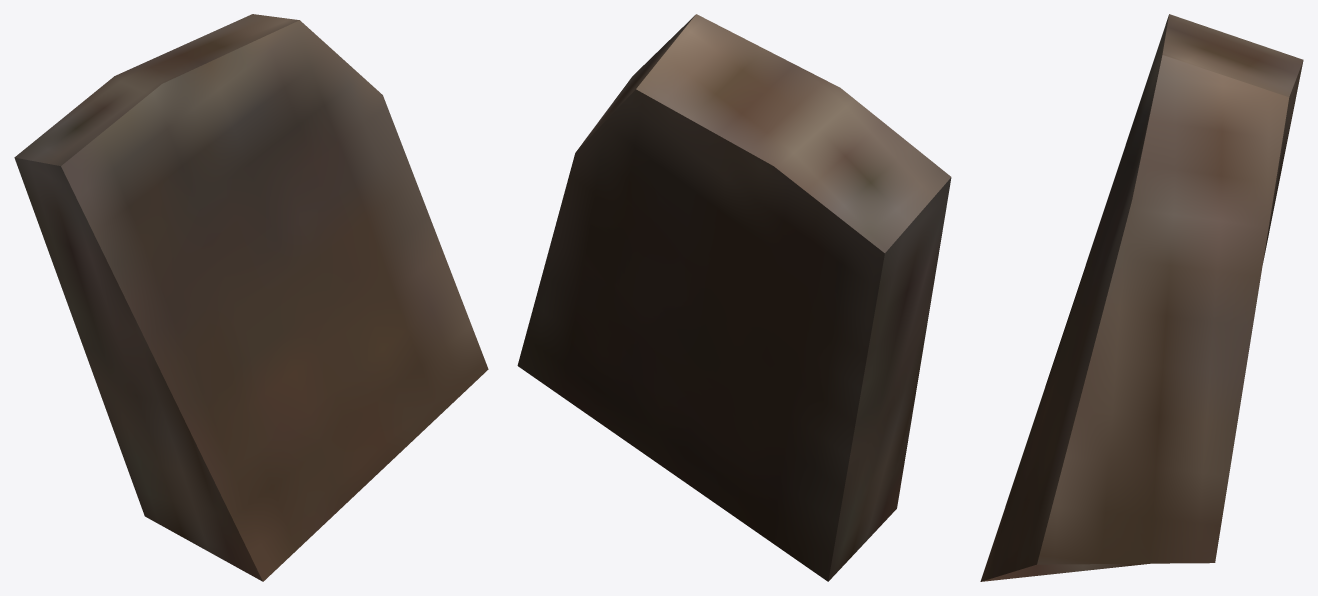
The model's file is plane_wreckage_debris_micro_01.dae.
The picture shows the model from 3 angles, left to right: view 1: azimuth 30°, elevation 25°; view 2: azimuth 150°, elevation 25°; view 3: azimuth 270°, elevation 25°; orthographic projection. The views are drawn at different scales.
Visible parts, largest first — view 1: pasted__plane_wreckage_wing12; view 2: pasted__plane_wreckage_wing12; view 3: pasted__plane_wreckage_wing12.
Part boxes in pixels (x1,y1,x2,y2): pasted__plane_wreckage_wing12: (14,14,488,581); pasted__plane_wreckage_wing12: (517,14,951,581); pasted__plane_wreckage_wing12: (980,14,1303,581).
Size of the model in its own units: 14.14 by 17.13 by 8.45.
